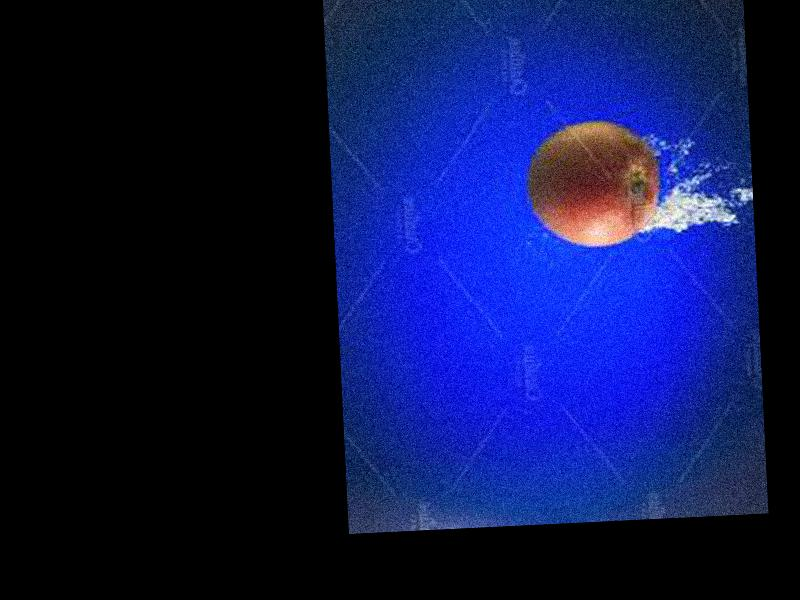Tomato: (528, 116, 662, 249)
